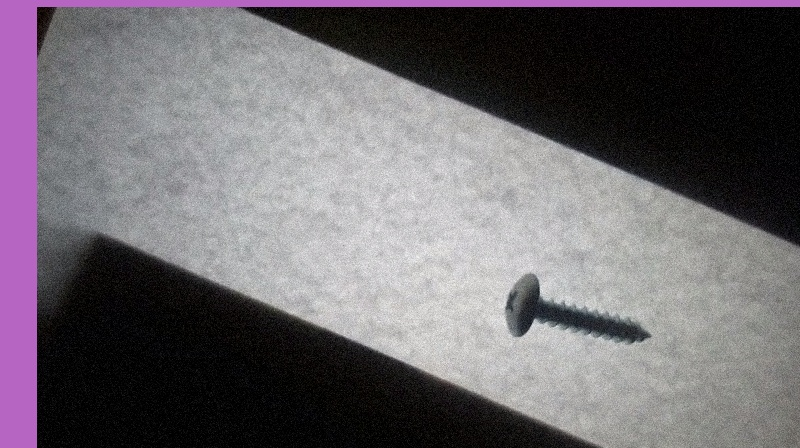S003: (499, 267, 654, 347)
